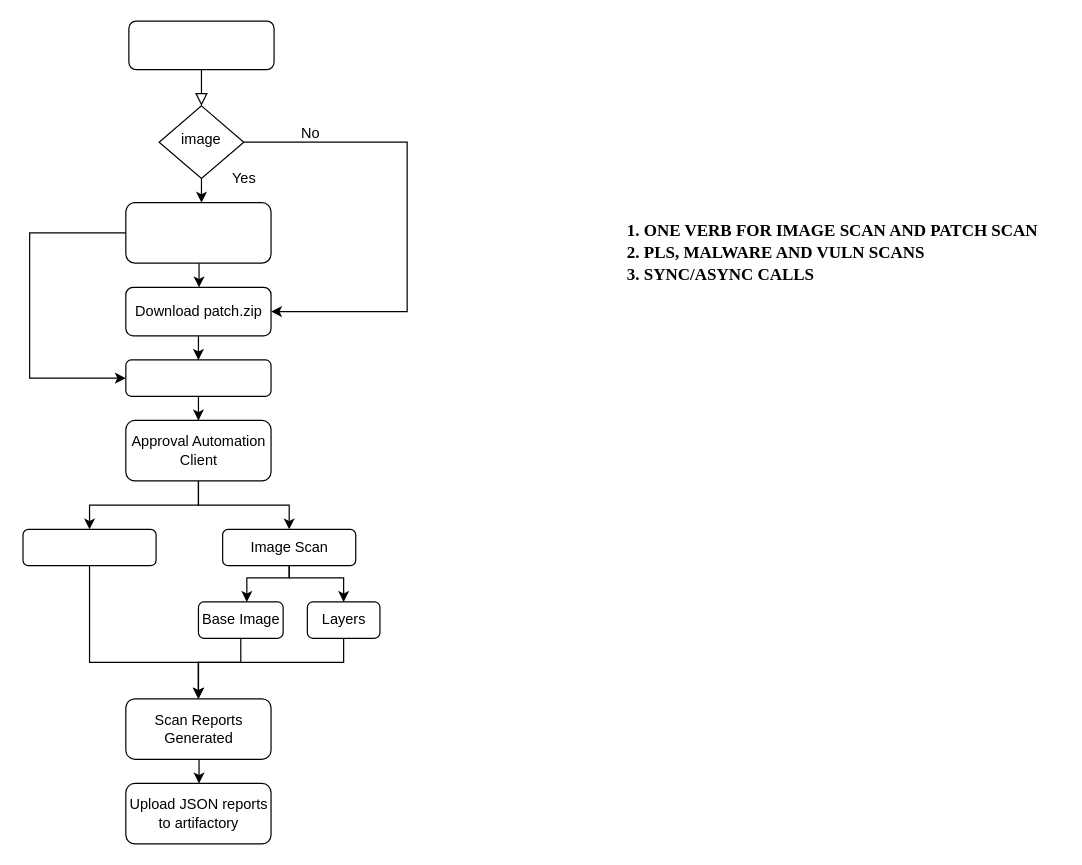
Image size: 1082x865. Some labels were removed from this diagram. The shapes that lost their labels are listed below. From the top down, each one's box as (x1, y1, x2, y2) in pixels, then its label:
(128, 20, 274, 70): 3plscan
(125, 201, 271, 263): download the image as tar file
(125, 359, 271, 396): ScanInput Directory
(22, 528, 156, 566): Patch.zip Scan
